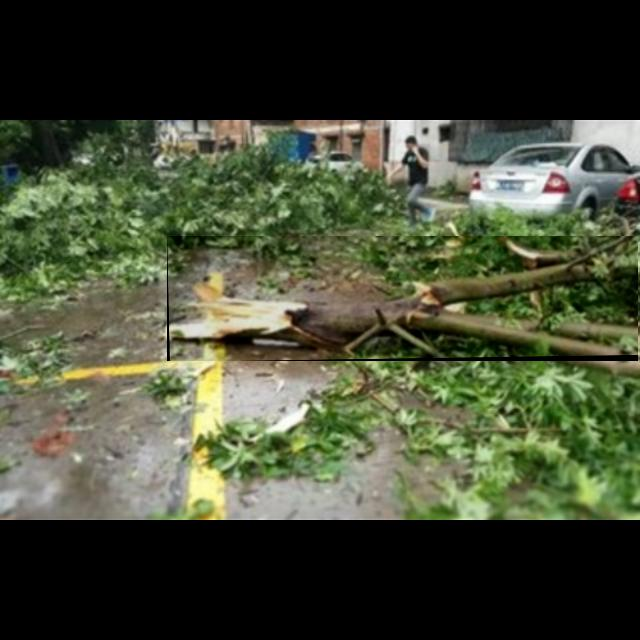Fallen Tree: (167, 236, 639, 362)
